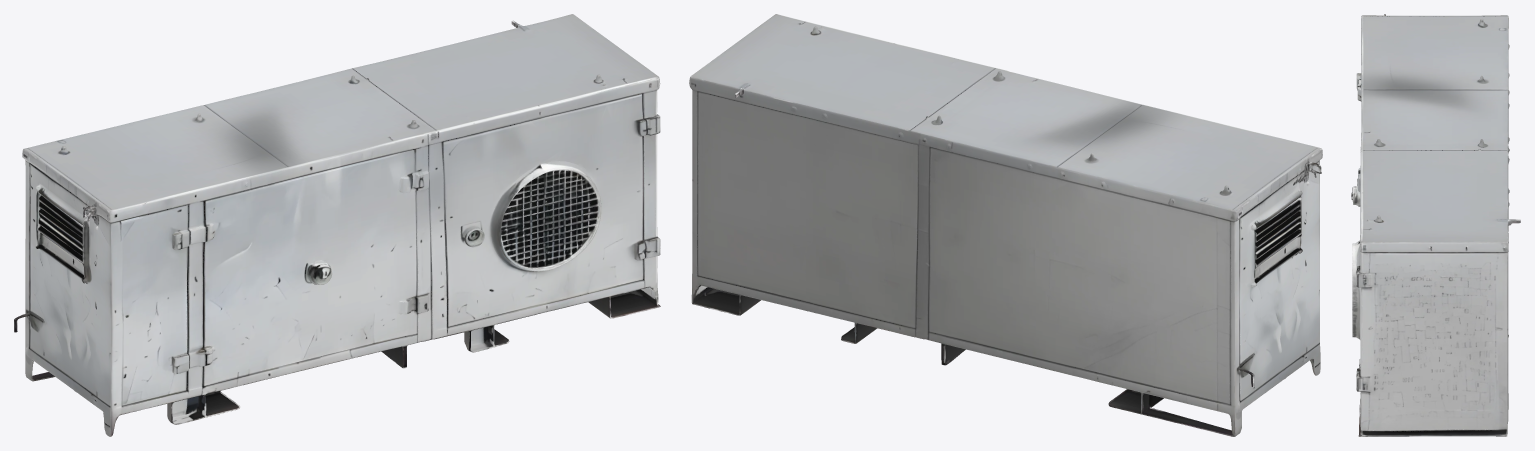
File: base_variant_c_shaded.glb
3 renders of one model, left to right at view 1: azimuth 30°, elevation 25°; view 2: azimuth 150°, elevation 25°; view 3: azimuth 270°, elevation 25°, orthographic. The views are drawn at different scales.
Parts seen in each view (by area): view 1: model; view 2: model; view 3: model.
Part boxes in pixels (x1,y1,x2,y2): model: [14, 14, 660, 436]; model: [689, 14, 1322, 436]; model: [1351, 14, 1520, 436].
Bounding box in the file's own units: 1.9 × 0.7623 × 0.5808.
Materials: 1 (1 with a texture image).
